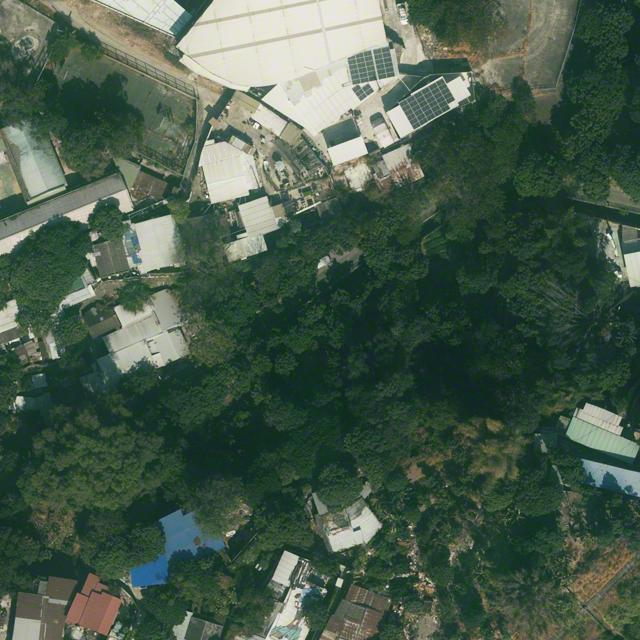panel: (398, 83, 451, 129), (346, 49, 377, 85), (372, 47, 395, 81), (435, 78, 456, 104), (351, 83, 368, 101), (362, 83, 375, 96)
